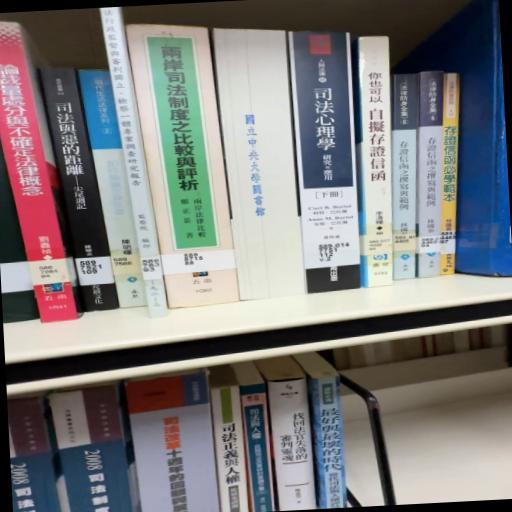backward: (213, 29, 308, 301)
book: (131, 24, 237, 259), (1, 18, 80, 329), (79, 65, 170, 316), (291, 28, 367, 301), (42, 66, 122, 316), (440, 1, 511, 279), (348, 35, 402, 292), (269, 377, 320, 512), (308, 373, 349, 511), (212, 385, 252, 512)
